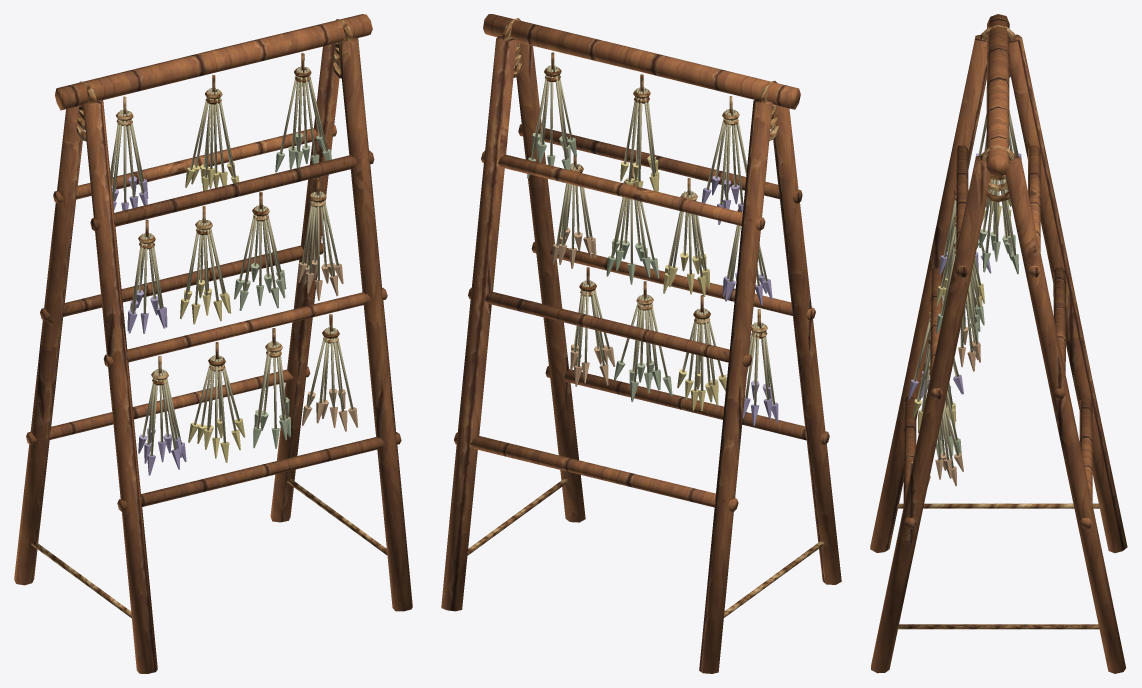
The model's file is hm_herb_ladder.glb.
3 views of the same model, side by side, from view 1: azimuth 30°, elevation 25°; view 2: azimuth 150°, elevation 25°; view 3: azimuth 270°, elevation 25° (orthographic). The views are drawn at different scales.
Visible parts, largest first — view 1: model; view 2: model; view 3: model.
Boxes of the visible parts, box(x1,y1,x2,y2) form: model: box(14, 14, 412, 673); model: box(441, 14, 841, 673); model: box(870, 14, 1127, 673).
Size of the model in its own units: 0.86 by 1.46 by 0.6491.
9 materials, 4 textured.
